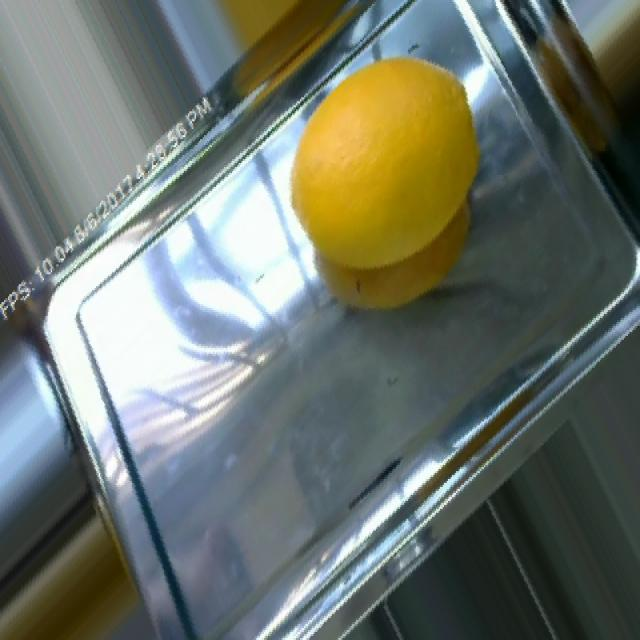Fruit: (279, 46, 492, 330), (0, 522, 153, 638)
